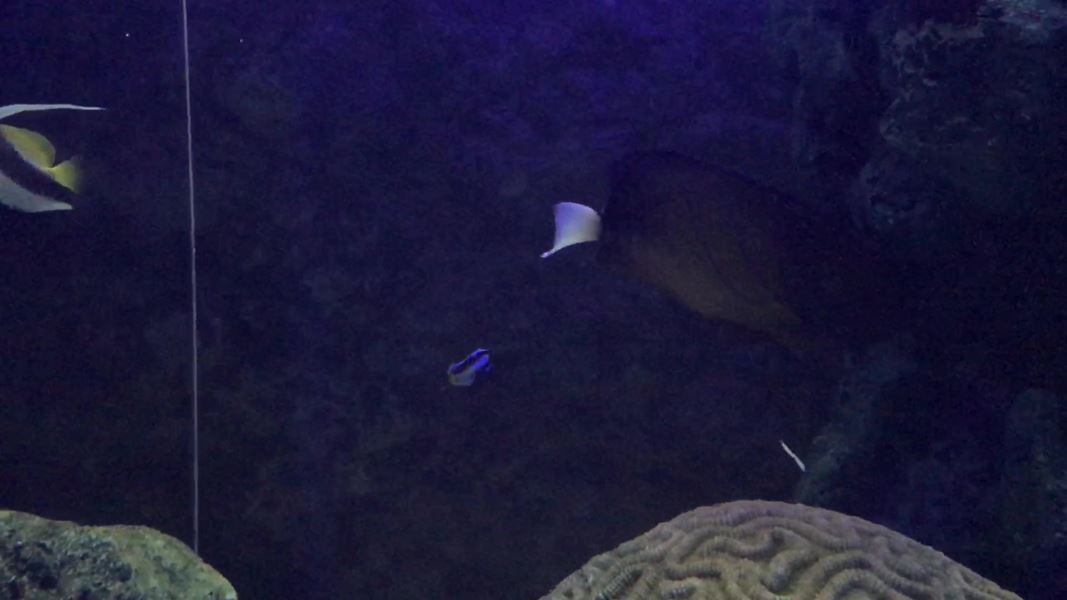Bluesteak cleaner wrasse: (434, 340, 499, 398)
